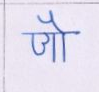au_matra: (44, 13, 73, 61)
